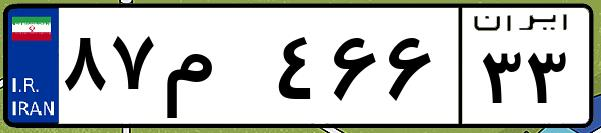3: (475, 38, 525, 113), (525, 38, 570, 115)
4: (270, 28, 330, 110)
6: (385, 28, 445, 110), (330, 28, 385, 110)
7: (110, 28, 158, 98)
8: (57, 26, 110, 100)
م: (158, 20, 270, 120)
